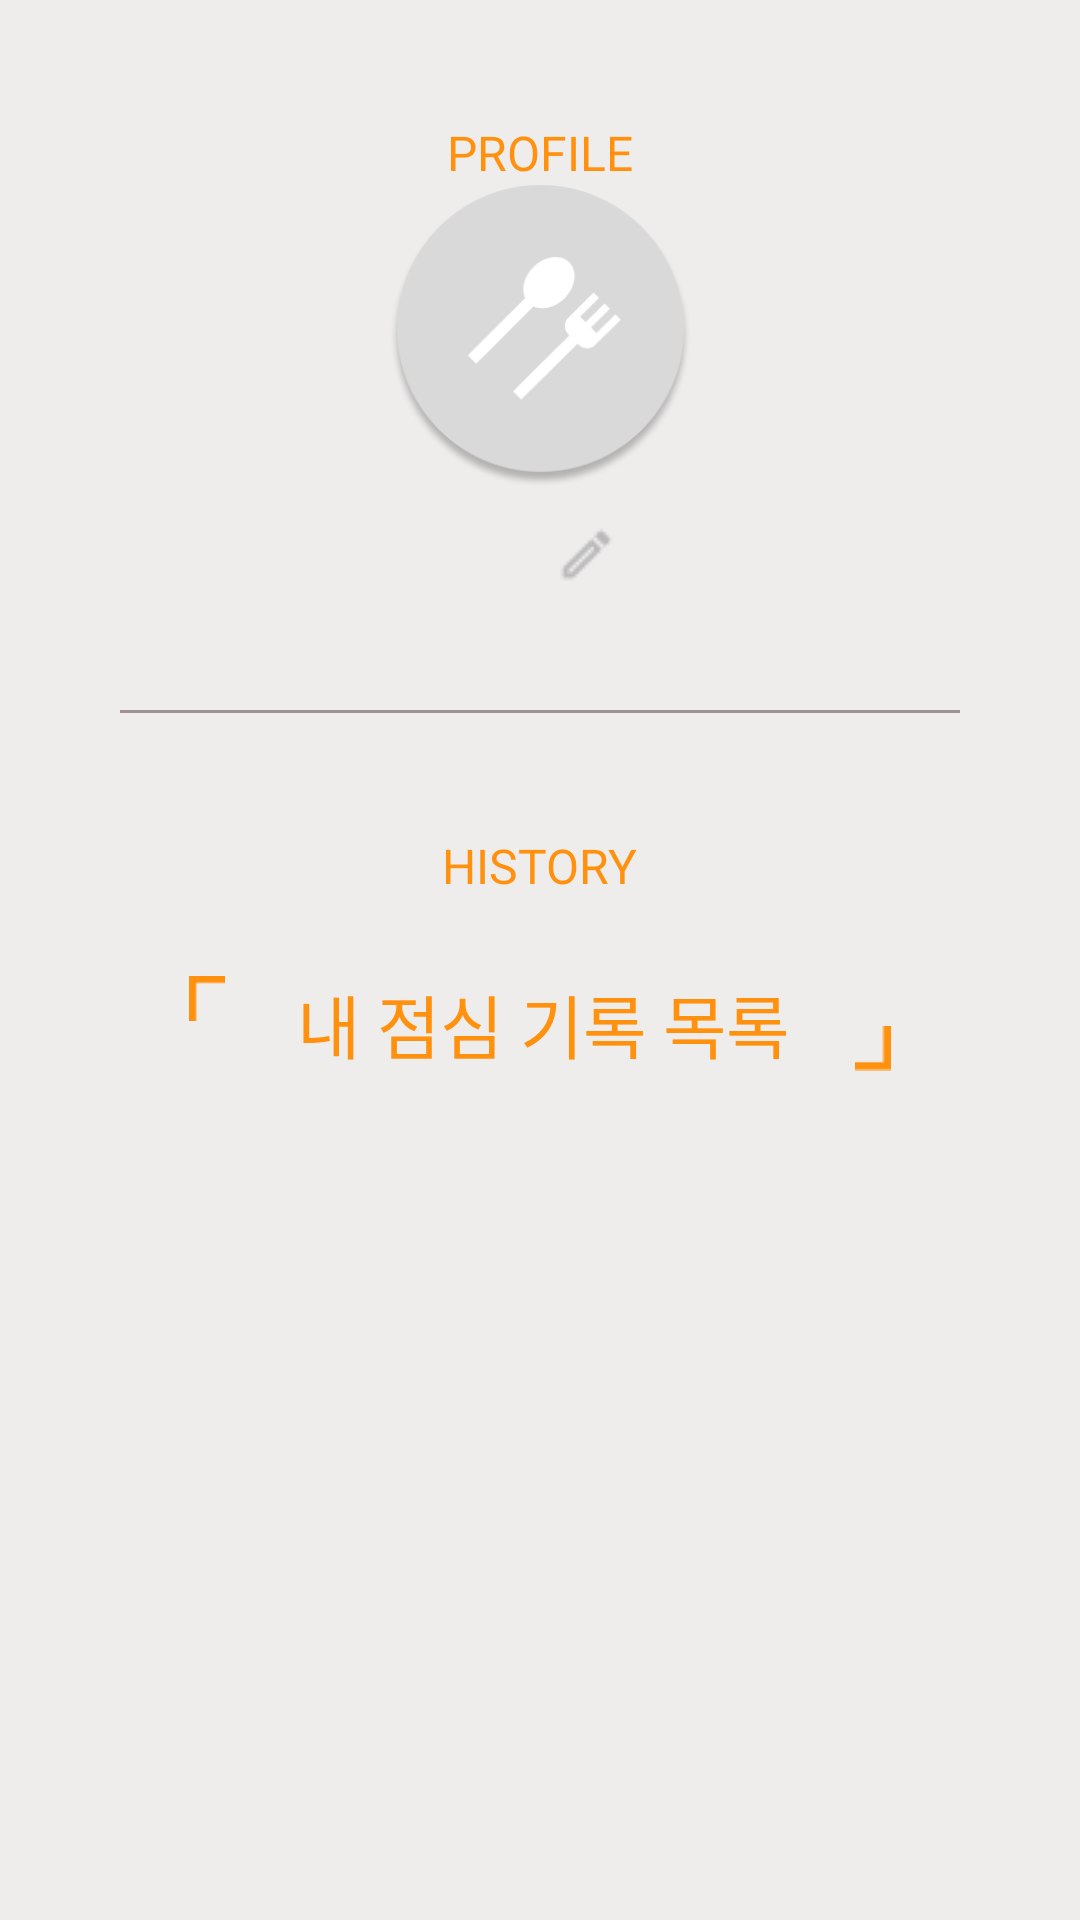

Named icons in this screenshot (1080*1920) and their bounding boxes, (x1, y1, x2, y2):
history pencil: (563, 531, 610, 578)
